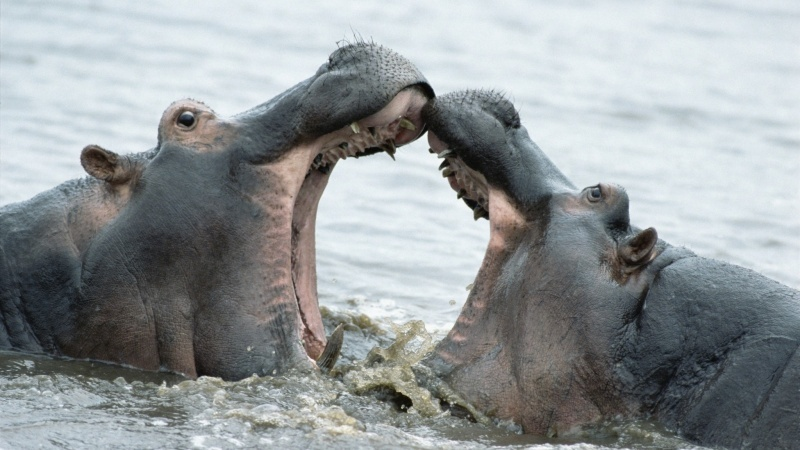hipopotamo: (1, 38, 436, 389), (404, 75, 800, 446)
